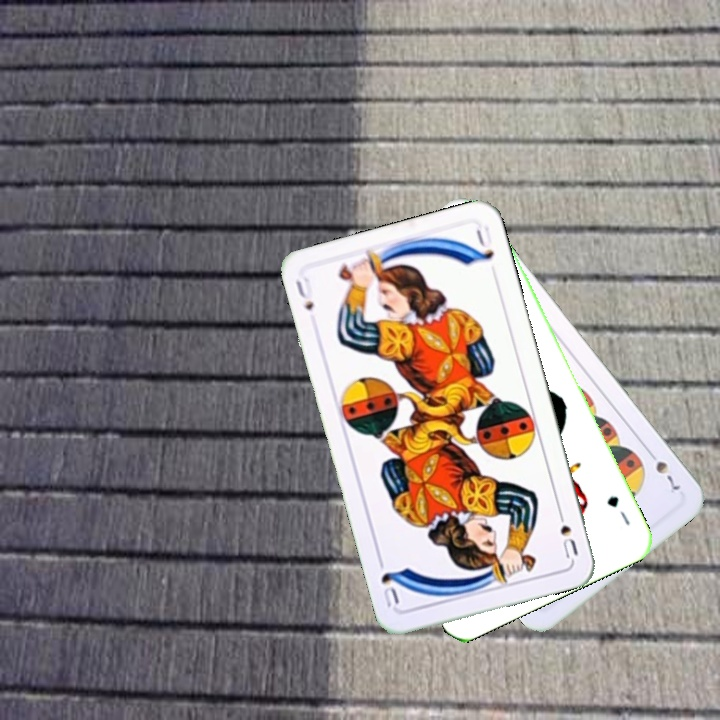GU: (602, 492, 633, 528)
S7: (643, 445, 683, 494)
SU: (553, 504, 581, 561), (291, 273, 316, 313)
